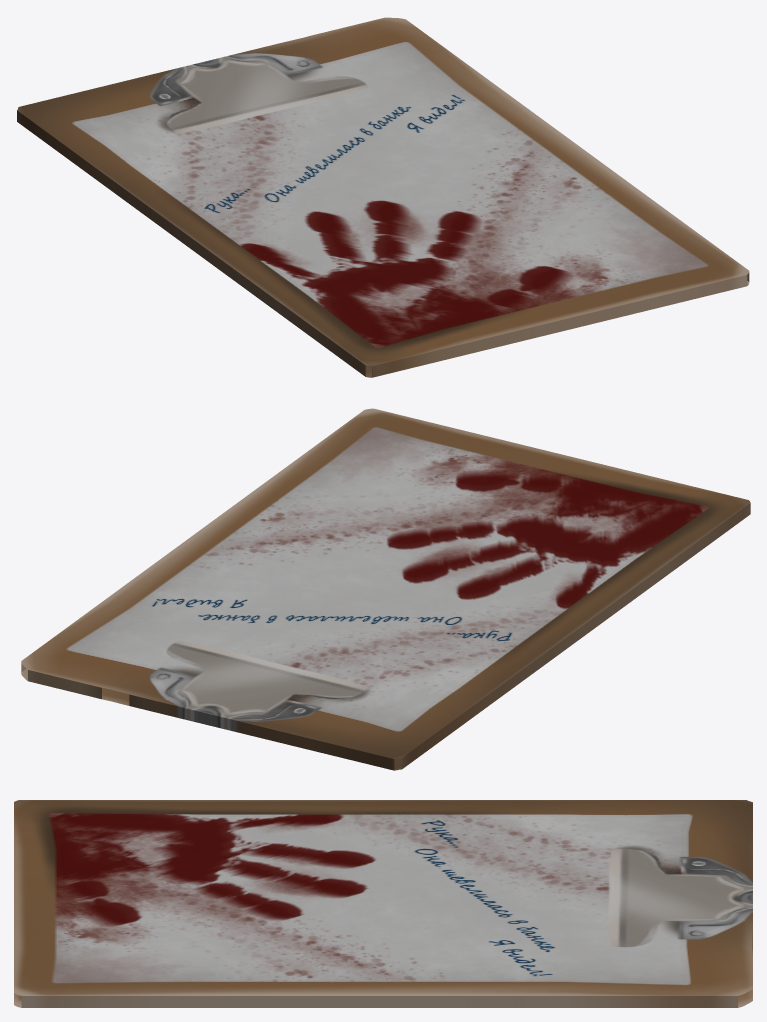
File: The_tablet_is_on_the_second_level.fbx
3 renders of one model, top to bottom at view 1: azimuth 30°, elevation 25°; view 2: azimuth 150°, elevation 25°; view 3: azimuth 270°, elevation 25°, orthographic. The views are drawn at different scales.
Visible parts, largest first — view 1: The_tablet_is_on_the_second_level; view 2: The_tablet_is_on_the_second_level; view 3: The_tablet_is_on_the_second_level.
Part boxes in pixels (left/top/right/bottom): The_tablet_is_on_the_second_level: left=17, top=17, right=749, bottom=377; The_tablet_is_on_the_second_level: left=21, top=408, right=750, bottom=770; The_tablet_is_on_the_second_level: left=14, top=800, right=752, bottom=1007.
Bounding box in the file's own units: 30.56 × 0.8714 × 48.7.
